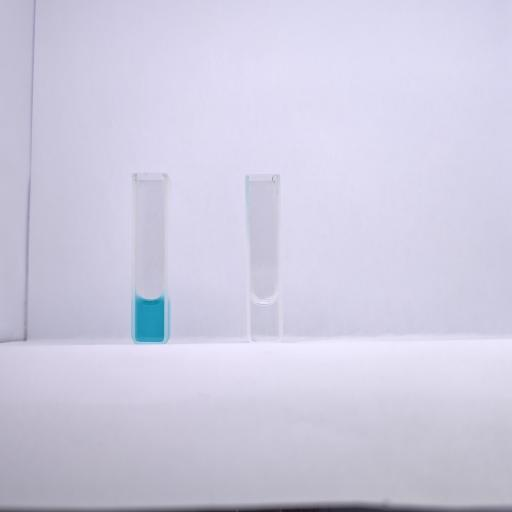cuvette: (246, 172, 286, 344), (131, 170, 170, 346)
liquid: (136, 297, 164, 342), (250, 297, 278, 339)
